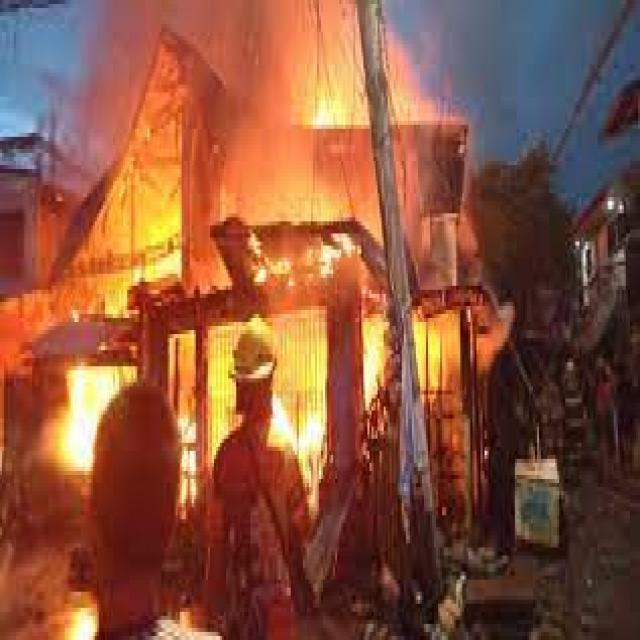Fire: (209, 116, 363, 340), (279, 318, 333, 436), (45, 373, 110, 452)
Smoke: (245, 0, 480, 276)
